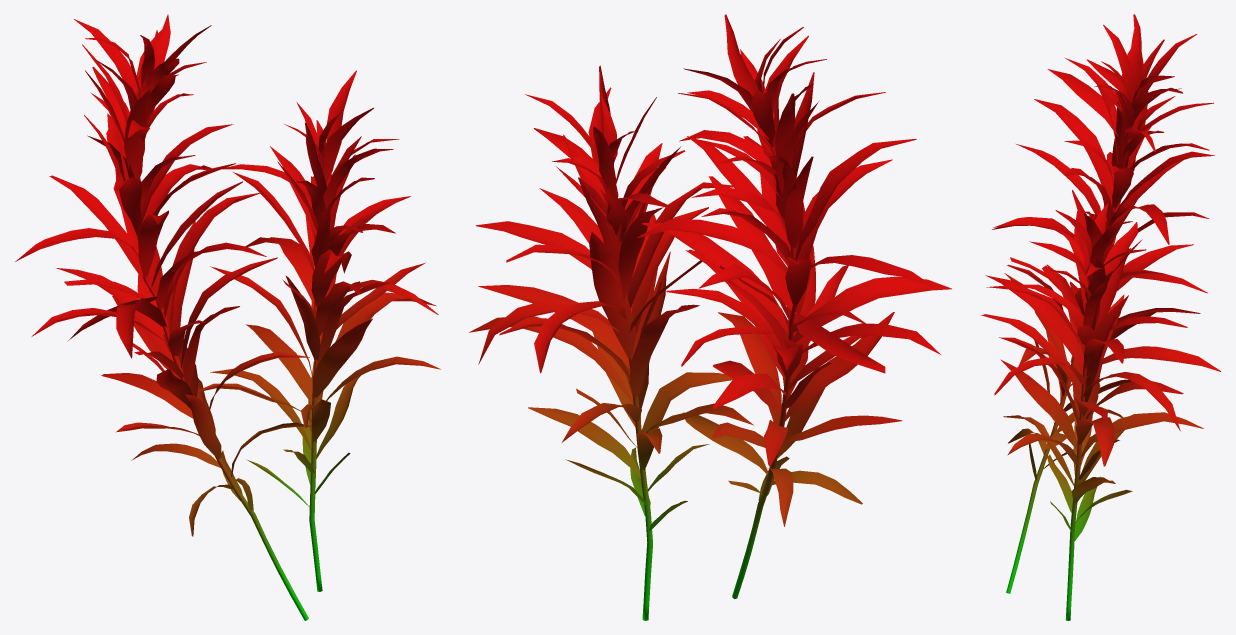
The model's file is Butterfly Weed_LOD1_Var9.fbx.
3 views of the same model, side by side, from view 1: azimuth 30°, elevation 25°; view 2: azimuth 150°, elevation 25°; view 3: azimuth 270°, elevation 25° (orthographic). The views are drawn at different scales.
Visible parts, largest first — view 1: _dt81_Var9_LOD1; view 2: _dt81_Var9_LOD1; view 3: _dt81_Var9_LOD1.
Boxes of the visible parts, <box> form: _dt81_Var9_LOD1: <box>15,14,440,620</box>; _dt81_Var9_LOD1: <box>469,14,951,620</box>; _dt81_Var9_LOD1: <box>981,14,1220,620</box>.
Size of the model in its own units: 53.29 by 70.5 by 29.35.
